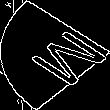M_SE: (7, 21, 103, 89)
